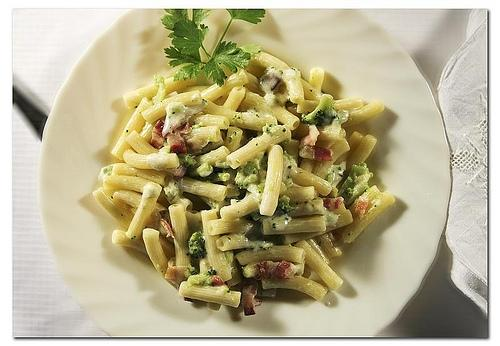broccoli: (336, 162, 374, 210), (301, 94, 339, 125), (234, 162, 258, 187), (186, 231, 207, 259), (188, 268, 218, 287), (151, 75, 166, 105), (192, 172, 230, 183), (276, 195, 298, 214), (188, 163, 214, 178), (178, 154, 198, 168)
